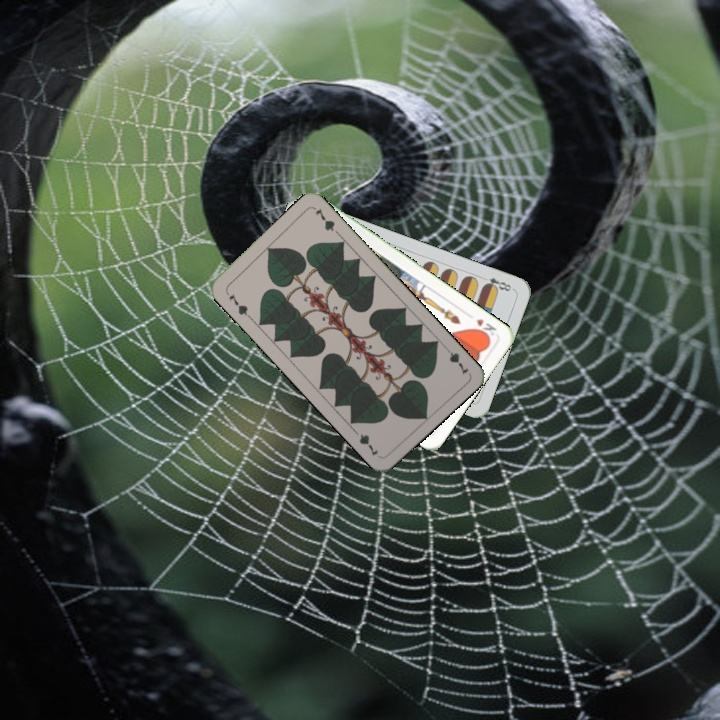E8: (477, 272, 516, 294)
G7: (440, 342, 472, 377), (222, 287, 253, 320)
HK: (471, 314, 499, 342)
